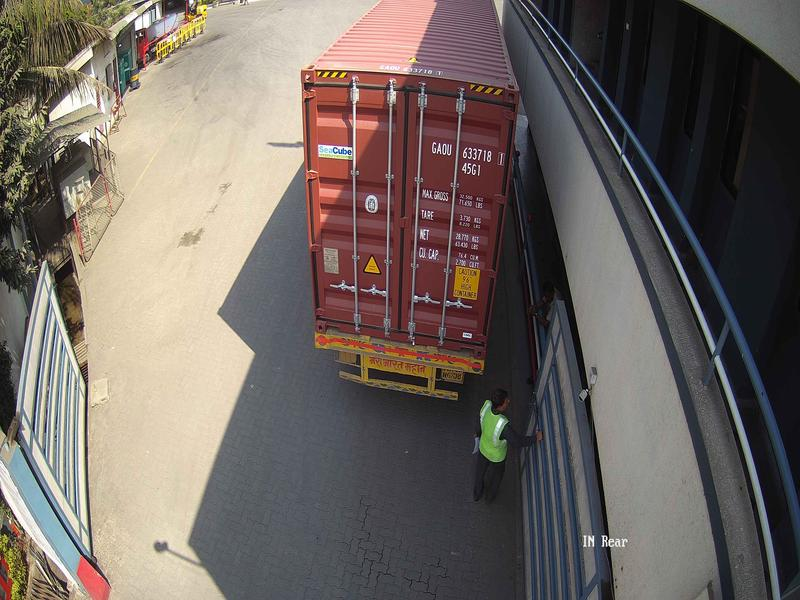container: (286, 56, 524, 380)
